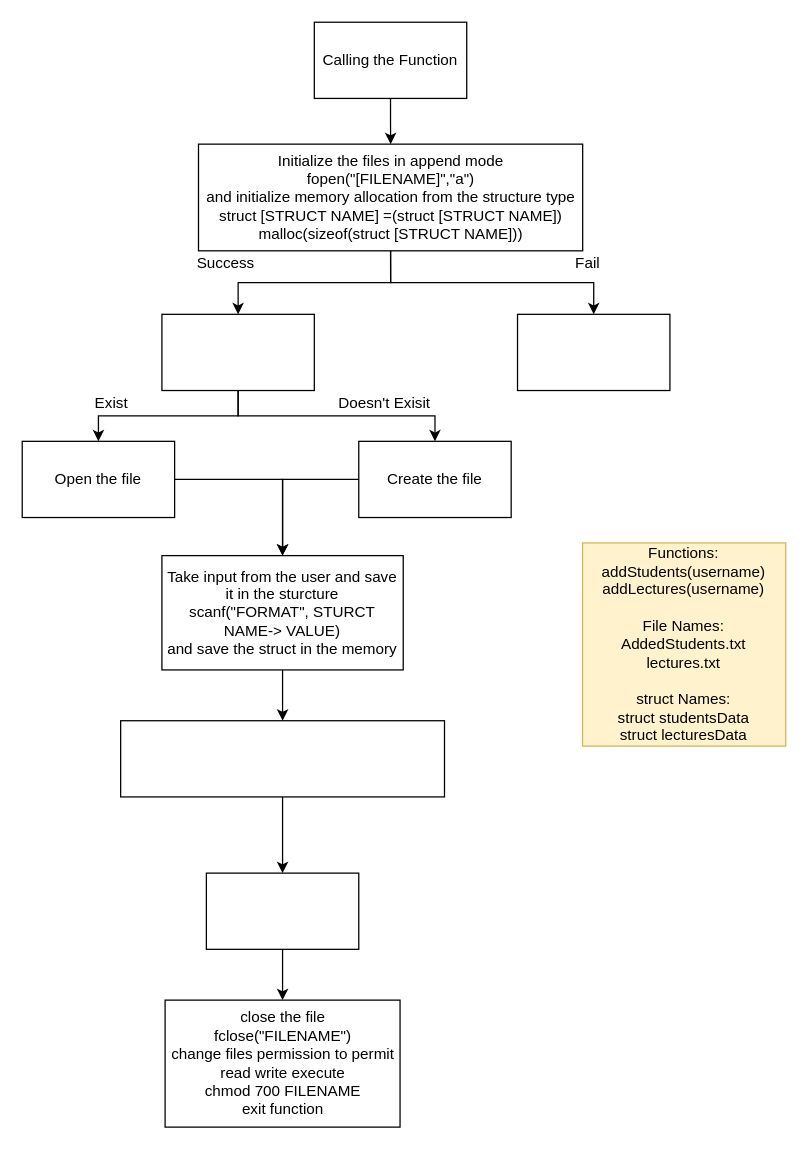
The diagram is 809 pixels wide and 1149 high, and some of its shapes have lost their labels. Here are the shapes that lost their labels. From the top down, the centre of each, then its label:
[237,352]: if the file exist
[593,352]: Print the error message then exit
[281,758]: print the data in the file fprintf("FILE_PTR", "FORMATE","DATA")
[282,910]: free the struct from the memory free(STRUCT)
